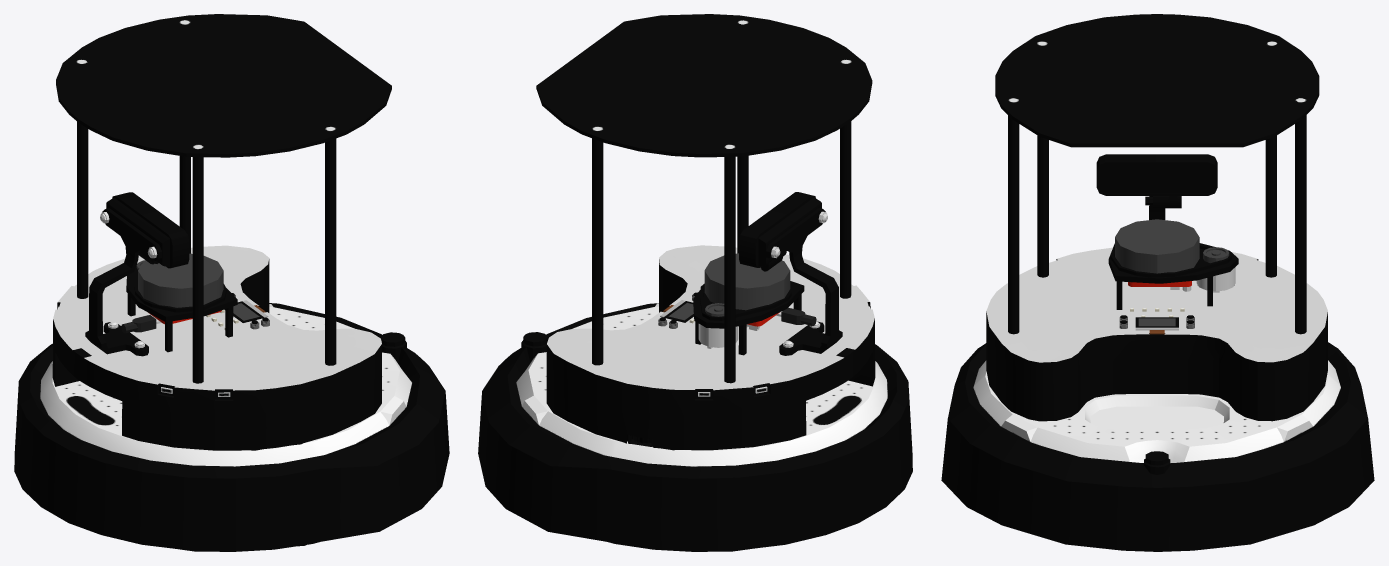
File: turtlebot4.glb
3 renders of one model, left to right at view 1: azimuth 30°, elevation 25°; view 2: azimuth 150°, elevation 25°; view 3: azimuth 270°, elevation 25°, orthographic.
Visible parts, largest first — view 1: base, middle, TOP NEW RETOPO, pilar, BSurfaceMesh.007, Cylinder.001, MONITOR, Cube.002, Cube, Cube.004; view 2: base, TOP NEW RETOPO, middle, pilar, Cylinder.001, BSurfaceMesh.007, MONITOR, Cube.002, Cube, Cube.004; view 3: base, middle, TOP NEW RETOPO, pilar, Cylinder.001, MONITOR, Cube.002, Cube, Cube.004.
Boxes of the visible parts, x1,y1,x2,y2 form: base: (14, 303, 449, 551); middle: (52, 245, 381, 450); TOP NEW RETOPO: (56, 14, 391, 157); pilar: (77, 121, 336, 383); BSurfaceMesh.007: (85, 208, 161, 356); Cylinder.001: (136, 253, 223, 324); MONITOR: (106, 192, 189, 268); Cube.002: (126, 263, 237, 352); Cube: (134, 265, 226, 312); Cube.004: (224, 300, 268, 322); base: (478, 303, 912, 551); TOP NEW RETOPO: (536, 14, 872, 157); middle: (546, 245, 875, 450); pilar: (592, 121, 851, 383); Cylinder.001: (698, 253, 790, 347); BSurfaceMesh.007: (766, 208, 842, 355); MONITOR: (739, 192, 821, 267); Cube.002: (693, 281, 804, 355); Cube: (700, 281, 791, 320); Cube.004: (660, 300, 693, 322); base: (941, 334, 1374, 551); middle: (986, 247, 1327, 421); TOP NEW RETOPO: (995, 14, 1319, 147); pilar: (1008, 115, 1306, 334); Cylinder.001: (1115, 219, 1235, 291); MONITOR: (1096, 154, 1217, 195); Cube.002: (1108, 243, 1238, 309); Cube: (1110, 244, 1231, 277); Cube.004: (1135, 317, 1178, 334).
Bounding box in the file's own units: 0.342 × 0.3489 × 0.3447.
Materials: 17 (6 with a texture image).
